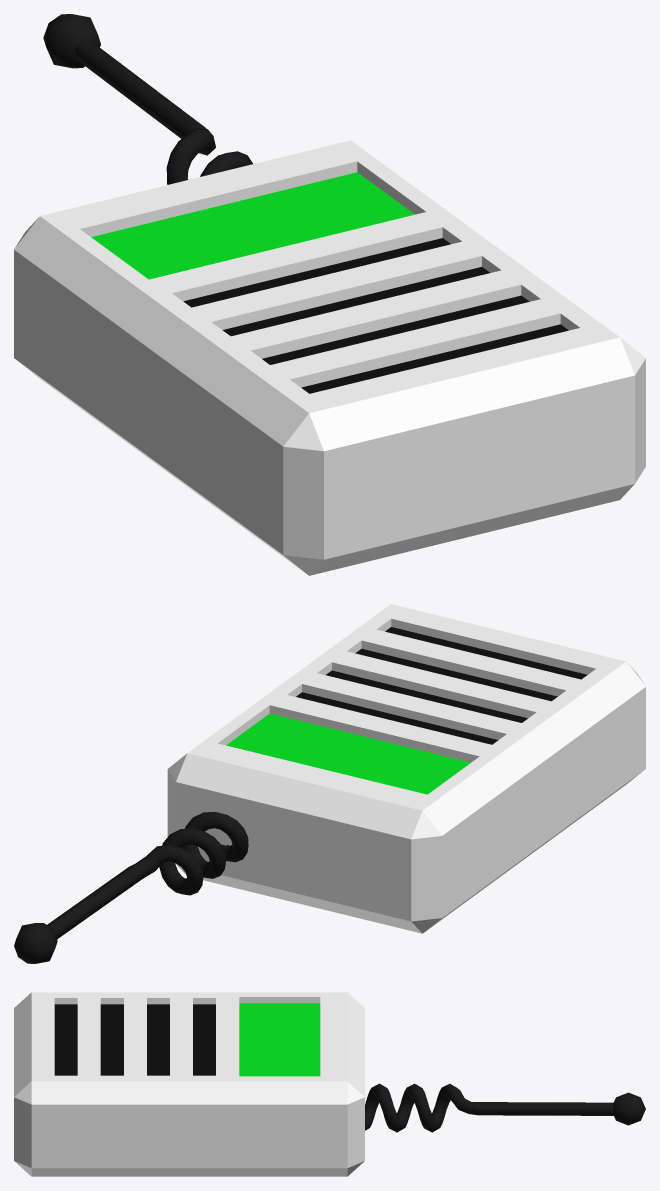
File: Leg_GPS_1X1_on.FBX
3 renders of one model, top to bottom at view 1: azimuth 30°, elevation 25°; view 2: azimuth 150°, elevation 25°; view 3: azimuth 270°, elevation 25°, orthographic. The views are drawn at different scales.
Visible parts, largest first — view 1: Box002; view 2: Box002; view 3: Box002.
Part boxes in pixels (left/top/right/bottom): Box002: left=14, top=14, right=645, bottom=575; Box002: left=14, top=604, right=645, bottom=963; Box002: left=14, top=992, right=645, bottom=1176.
Size of the model in its own units: 0.7 by 0.3 by 1.8.
